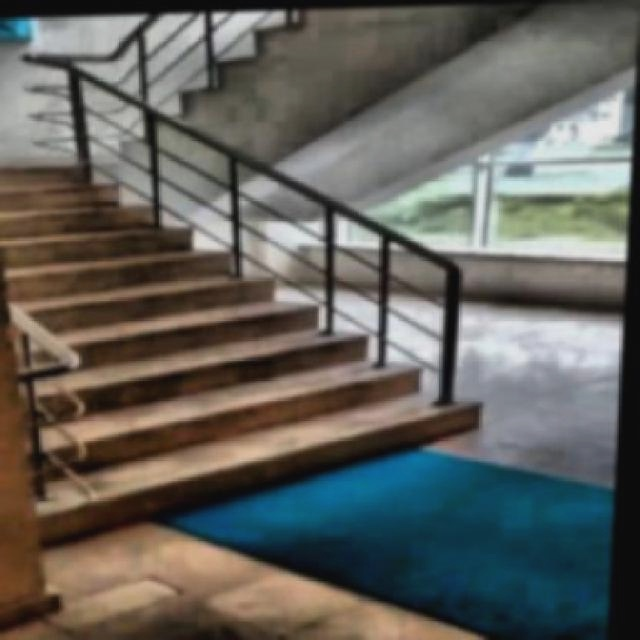stair: (2, 99, 518, 563)
